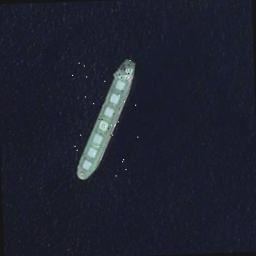boat: (72, 58, 140, 180)
